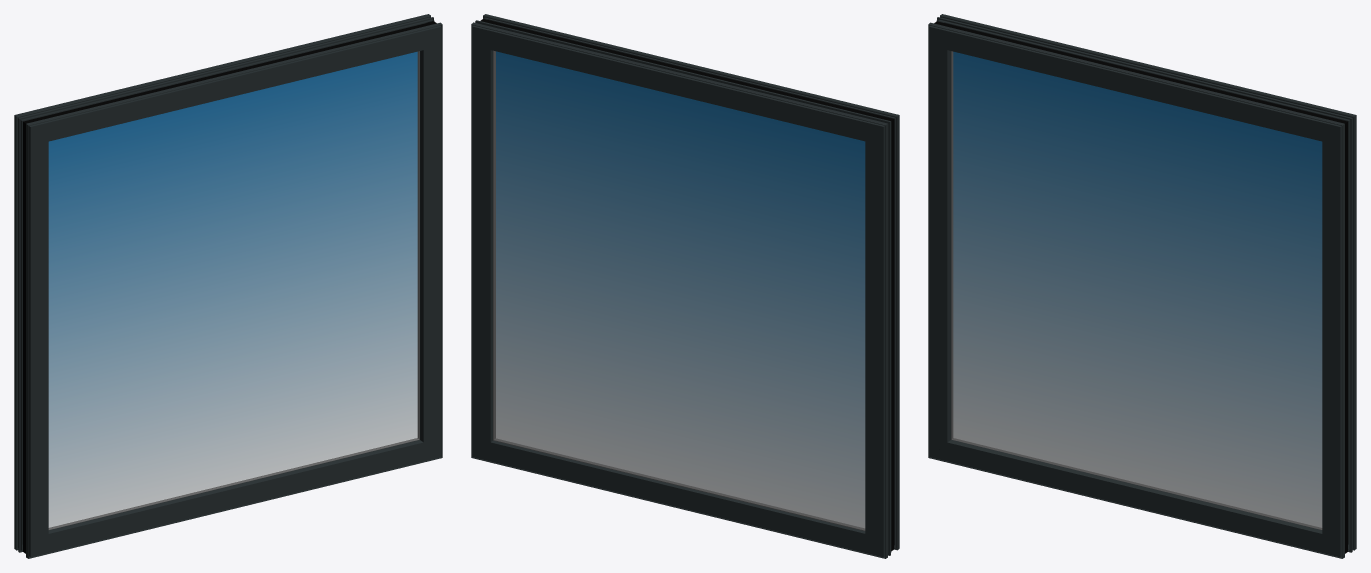
3 renders of one model, left to right at view 1: azimuth 30°, elevation 25°; view 2: azimuth 150°, elevation 25°; view 3: azimuth 330°, elevation 25°, orthographic.
Visible parts, largest first — view 1: vidro, fixe; view 2: vidro, fixe; view 3: vidro, fixe.
Part boxes in pixels (x1,y1,x2,y2): vidro: [48, 51, 417, 527]; fixe: [14, 14, 442, 558]; vidro: [496, 51, 865, 528]; fixe: [471, 14, 899, 558]; vidro: [953, 51, 1322, 527]; fixe: [928, 14, 1356, 558].
Bounding box in the file's own units: 100 × 100 × 6.3.
Materials: 1 (1 with a texture image).
